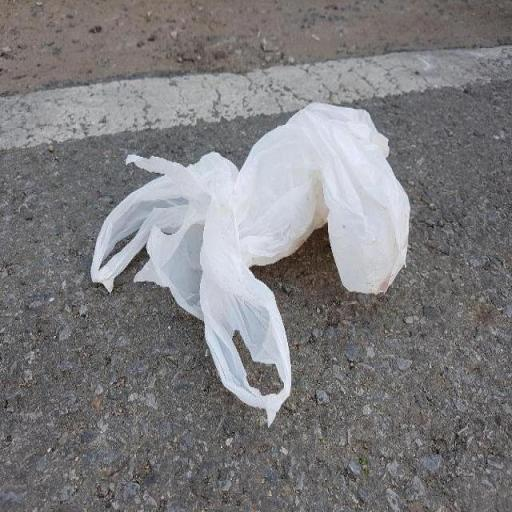plastic-bag: (86, 100, 416, 432)
